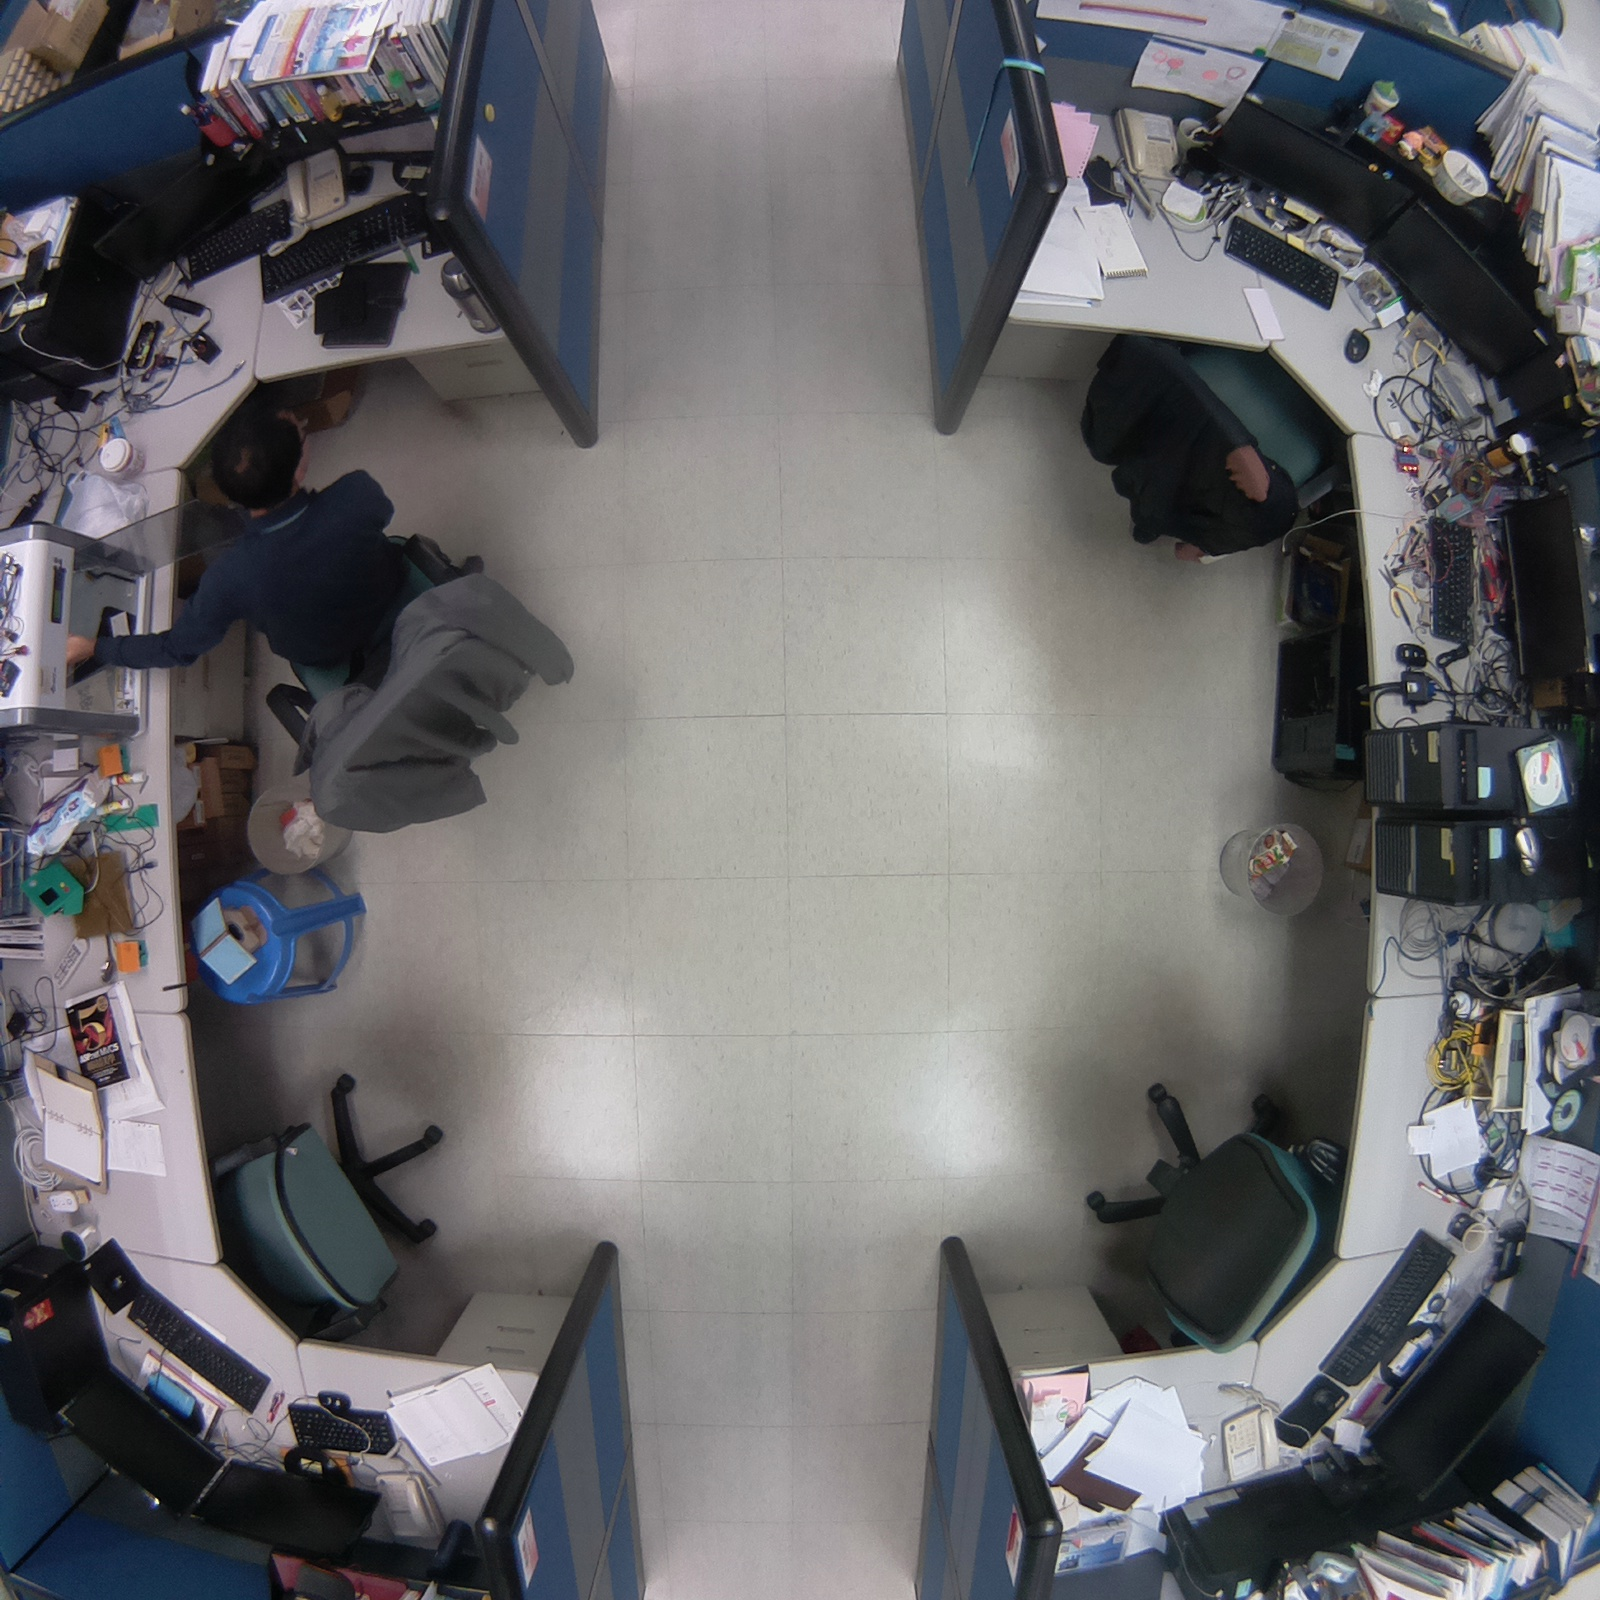chair: (1063, 1070, 1360, 1368), (196, 1063, 476, 1340), (1068, 317, 1365, 570)
head: (212, 404, 315, 517)
sitting: (167, 395, 588, 847)
